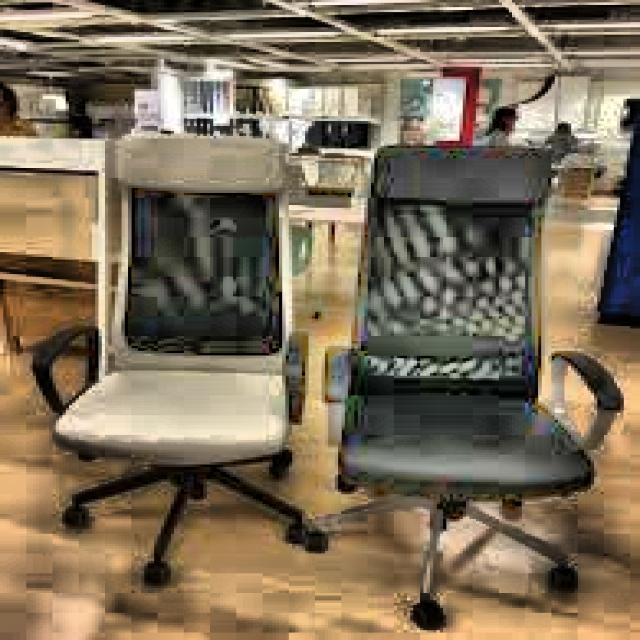cadeira: (315, 131, 625, 640), (28, 133, 324, 590)
